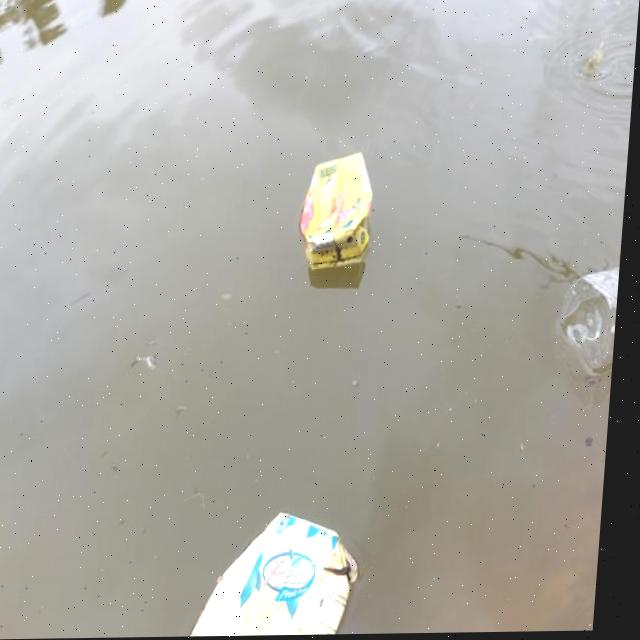paper: (190, 497, 372, 637), (266, 143, 392, 291), (570, 226, 621, 342)
